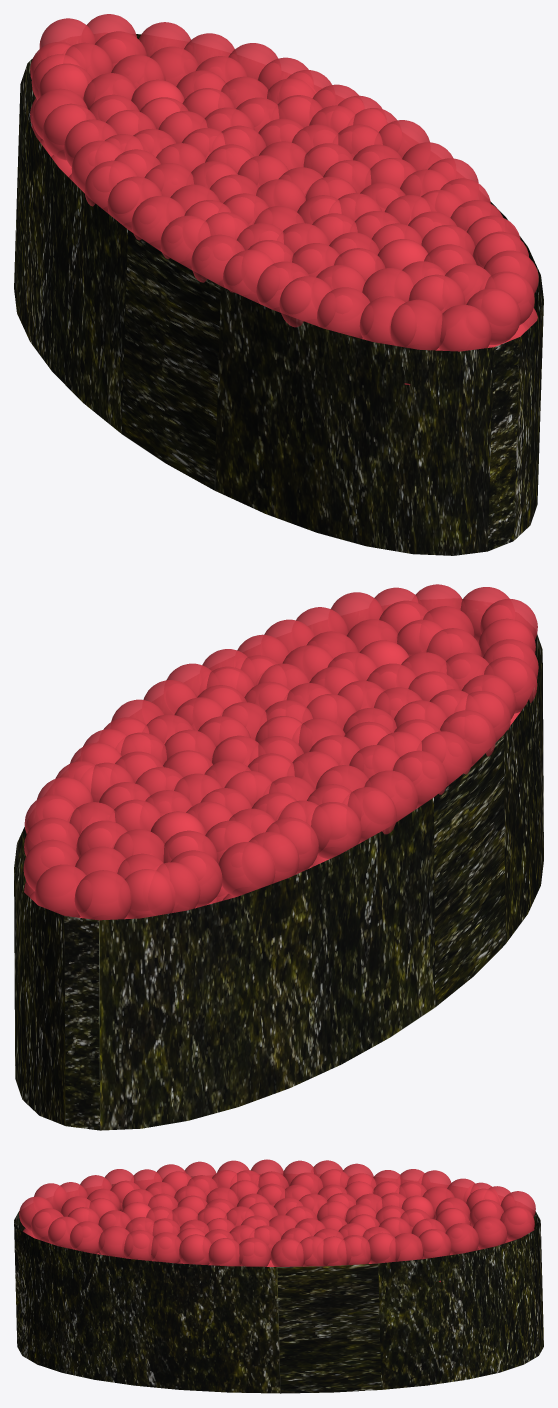
File: ikura.fbx
3 renders of one model, top to bottom at view 1: azimuth 30°, elevation 25°; view 2: azimuth 150°, elevation 25°; view 3: azimuth 270°, elevation 25°, orthographic. The views are drawn at different scales.
Visible parts, largest first — view 1: 円, 球.082, 球.074, 球.083, 球.073, 球.079, 球.078, 球.114, 球.054, 球.004, 球.076, 球.087 (+100 smaller); view 2: 円, 球.025, 球.004, 球.031, 球.028, 球.115, 球.053, 球.026, 球.016, 球.055, 球.030, 球.054 (+100 smaller); view 3: 円, 球.083, 球.088, 球.085, 球.034, 球.087, 球.035, 球.046, 球.097, 球.060, 球.040, 球.109 (+100 smaller).
Part boxes in pixels (left/top/right/bottom): 円: left=14, top=34, right=543, bottom=555; 球.082: left=390, top=299, right=445, bottom=350; 球.074: left=279, top=276, right=335, bottom=327; 球.083: left=466, top=288, right=520, bottom=344; 球.073: left=223, top=249, right=279, bottom=303; 球.079: left=359, top=296, right=415, bottom=346; 球.078: left=317, top=287, right=373, bottom=338; 球.114: left=435, top=304, right=491, bottom=351; 球.054: left=84, top=160, right=139, bottom=213; 球.004: left=42, top=103, right=98, bottom=160; 球.076: left=256, top=261, right=310, bottom=313; 球.087: left=480, top=271, right=534, bottom=325; 円: left=14, top=599, right=543, bottom=1130; 球.025: left=168, top=850, right=222, bottom=907; 球.004: left=242, top=831, right=299, bottom=886; 球.031: left=74, top=870, right=131, bottom=920; 球.028: left=218, top=842, right=275, bottom=897; 球.115: left=35, top=864, right=91, bottom=917; 球.053: left=306, top=802, right=361, bottom=859; 球.026: left=118, top=869, right=174, bottom=918; 球.016: left=263, top=817, right=318, bottom=874; 球.055: left=363, top=770, right=417, bottom=823; 球.030: left=148, top=862, right=199, bottom=914; 球.054: left=343, top=787, right=396, bottom=843; 円: left=14, top=1176, right=543, bottom=1393; 球.083: left=31, top=1208, right=65, bottom=1243; 球.088: left=69, top=1221, right=104, bottom=1253; 球.085: left=98, top=1226, right=132, bottom=1258; 球.034: left=472, top=1216, right=507, bottom=1249; 球.087: left=48, top=1216, right=82, bottom=1249; 球.035: left=444, top=1223, right=478, bottom=1254; 球.046: left=296, top=1236, right=330, bottom=1266; 球.097: left=149, top=1232, right=182, bottom=1263; 球.060: left=179, top=1234, right=212, bottom=1264; 球.040: left=365, top=1232, right=399, bottom=1263; 球.109: left=123, top=1230, right=156, bottom=1260.
Size of the model in its own units: 203 by 149 by 481.
Materials: 230 (1 with a texture image).
